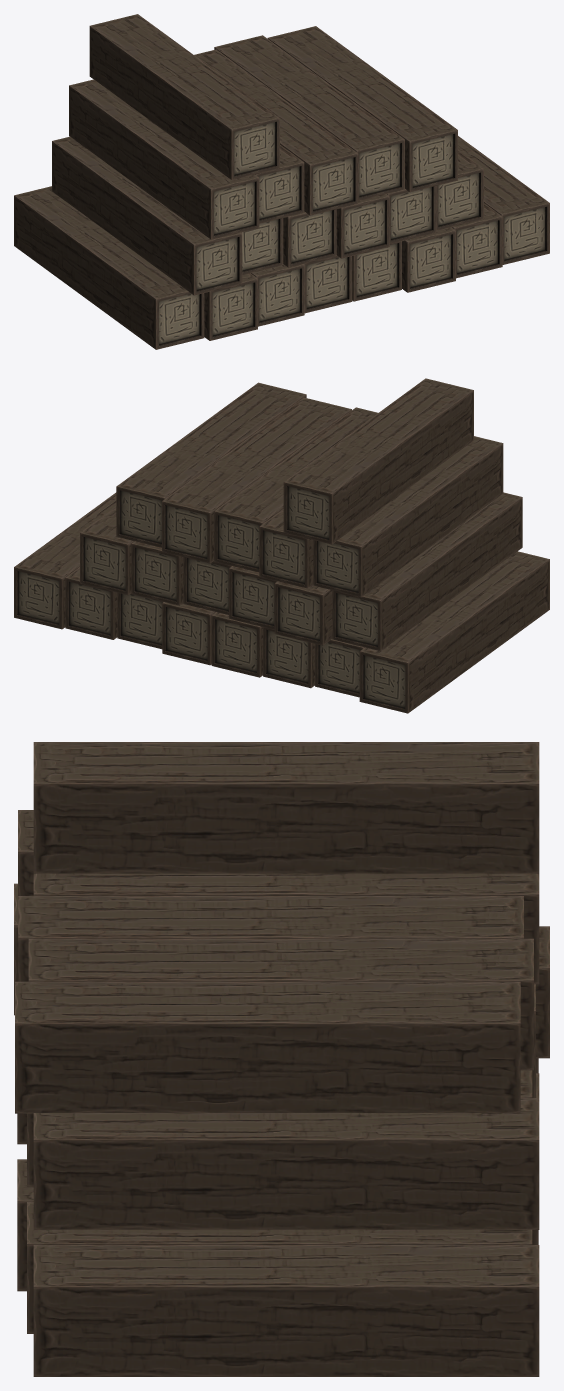
File: SM_Lumber_01_B.glb
3 renders of one model, top to bottom at view 1: azimuth 30°, elevation 25°; view 2: azimuth 150°, elevation 25°; view 3: azimuth 270°, elevation 25°, orthographic. The views are drawn at different scales.
Visible parts, largest first — view 1: SM_Lumber_01_B; view 2: SM_Lumber_01_B; view 3: SM_Lumber_01_B.
Part boxes in pixels (bbox=[...]): SM_Lumber_01_B: bbox=[14, 14, 549, 349]; SM_Lumber_01_B: bbox=[14, 378, 549, 713]; SM_Lumber_01_B: bbox=[14, 742, 549, 1376].
Bounding box in the file's own units: 1.12 × 0.5471 × 0.7414.
Materials: 1 (1 with a texture image).
